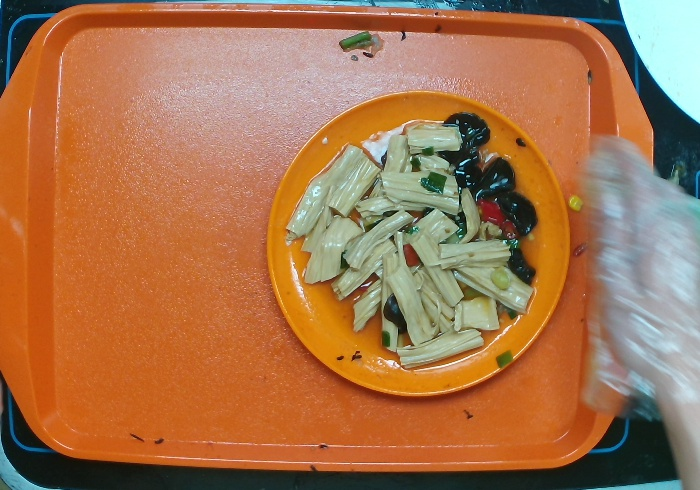HZYJPL-Ju_Huang_Yuan_Pan: (263, 91, 572, 401)
